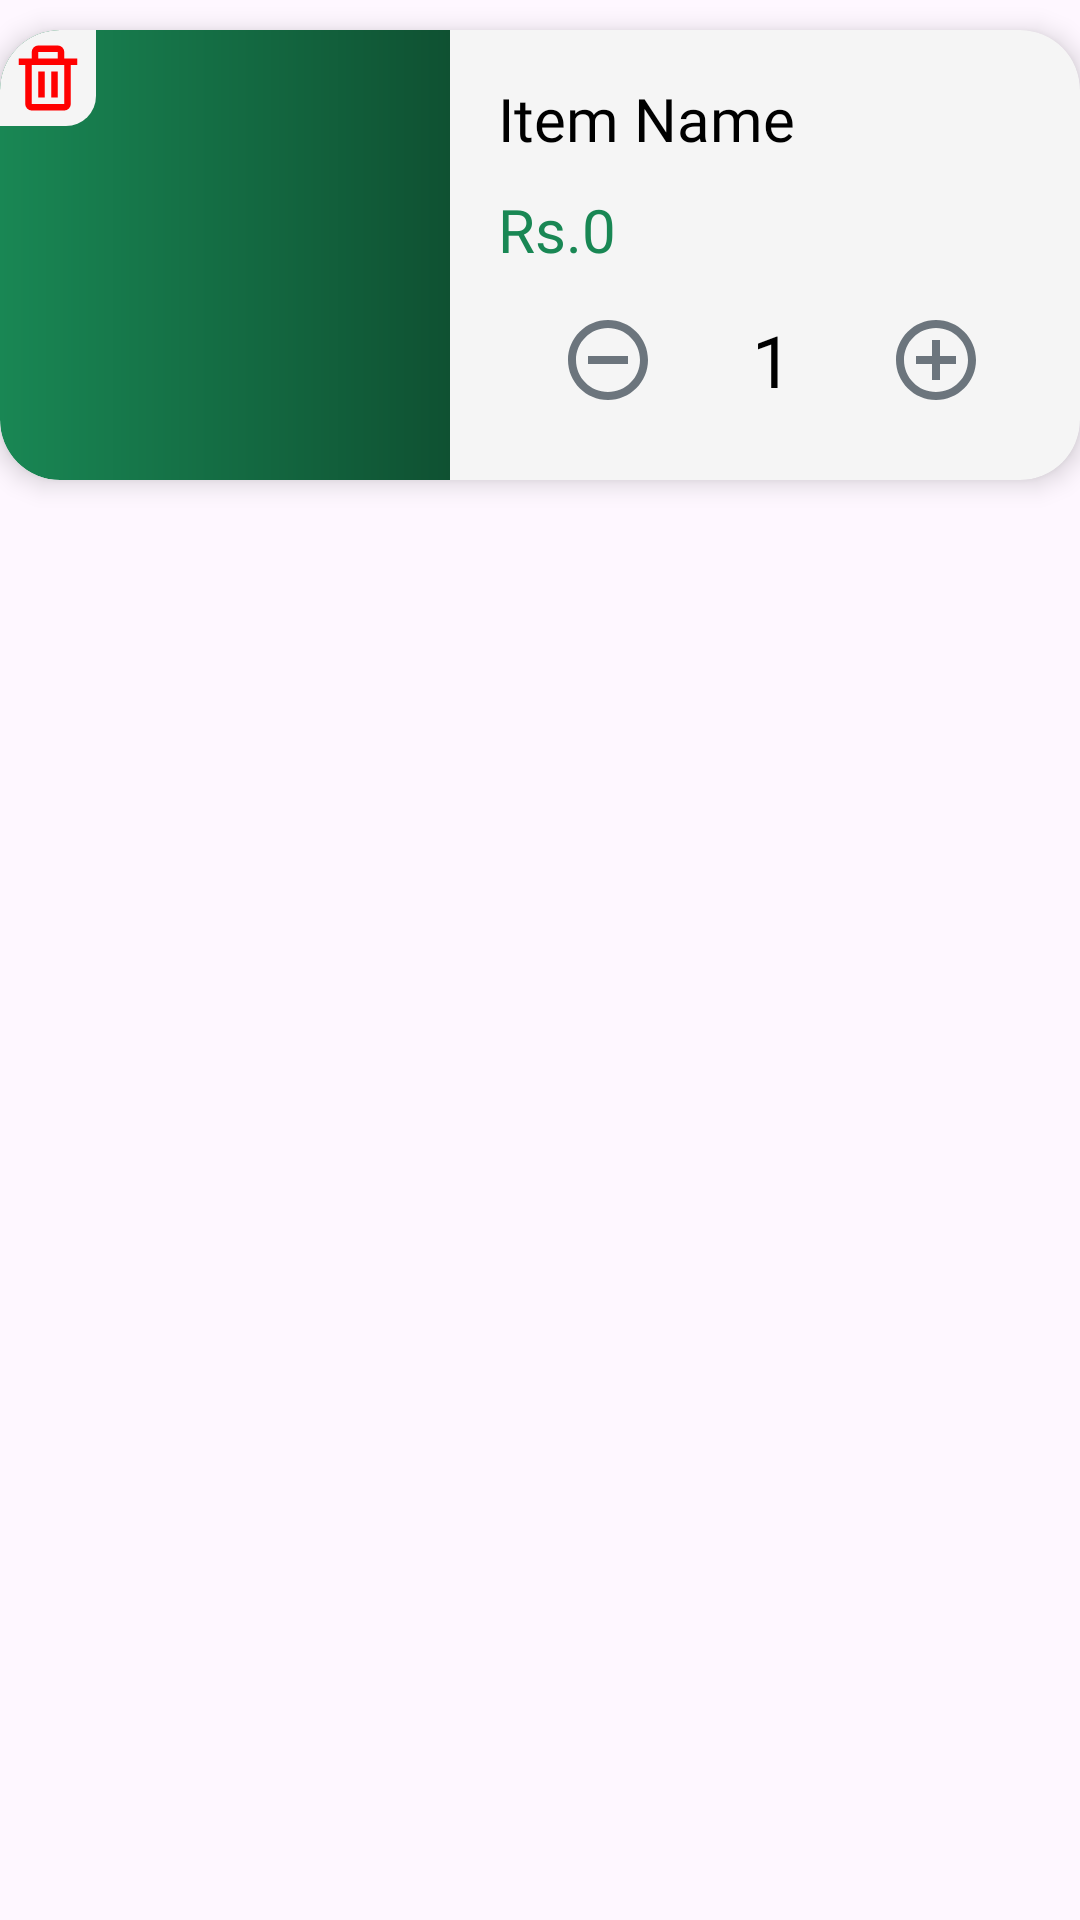

Where to tap for icons on this 1080 × 1920 app screen, as point (x, y):
minus circle: point (608, 360)
plus circle: point (936, 360)
trash: point (48, 78)
